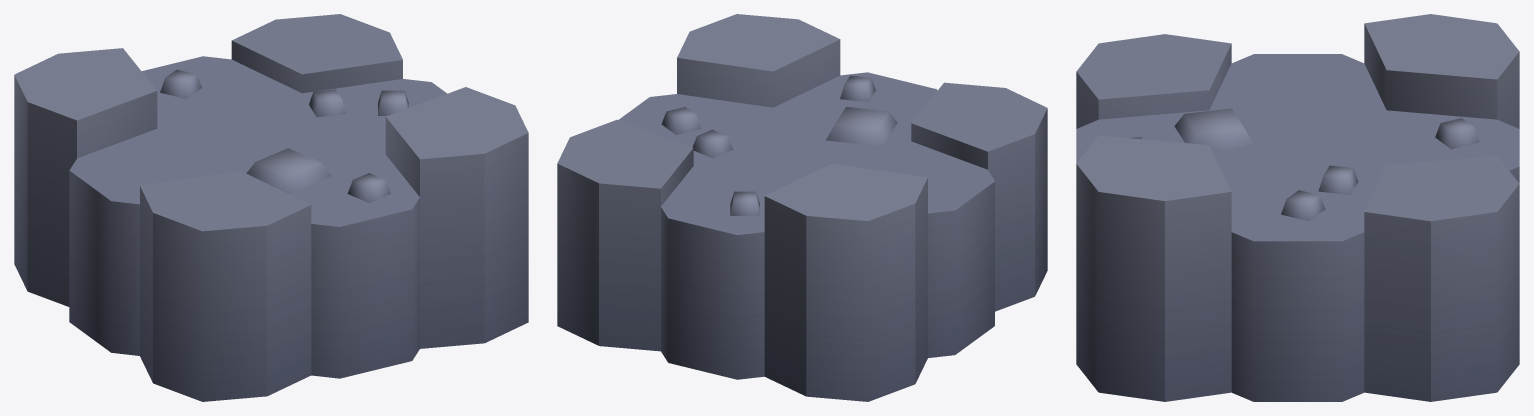
3 views of the same model, side by side, from view 1: azimuth 30°, elevation 25°; view 2: azimuth 150°, elevation 25°; view 3: azimuth 270°, elevation 25° (orthographic). The views are drawn at different scales.
Visible parts, largest first — view 1: rocks; view 2: rocks; view 3: rocks.
Boxes of the visible parts, box(x1,y1,x2,y2) form: rocks: box(14, 14, 528, 401); rocks: box(557, 14, 1047, 401); rocks: box(1076, 14, 1519, 401).
Size of the model in its own units: 1 by 0.5 by 1.
Materials: 1 (1 with a texture image).
